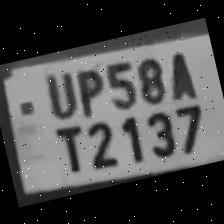1: (112, 107, 149, 164)
2: (78, 114, 122, 172)
3: (136, 102, 179, 160)
5: (96, 54, 140, 112)
7: (167, 96, 211, 154)
8: (130, 50, 170, 105)
A: (158, 44, 201, 102)
P: (66, 61, 110, 117)
T: (47, 117, 90, 176)
U: (34, 64, 80, 120)
